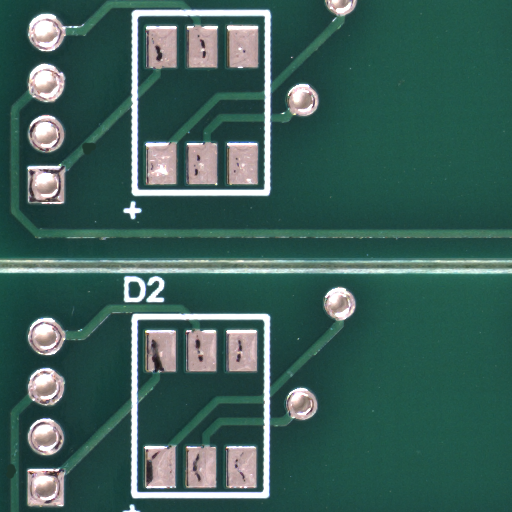Mouse_bite: (88, 147, 101, 160), (12, 472, 20, 489)
